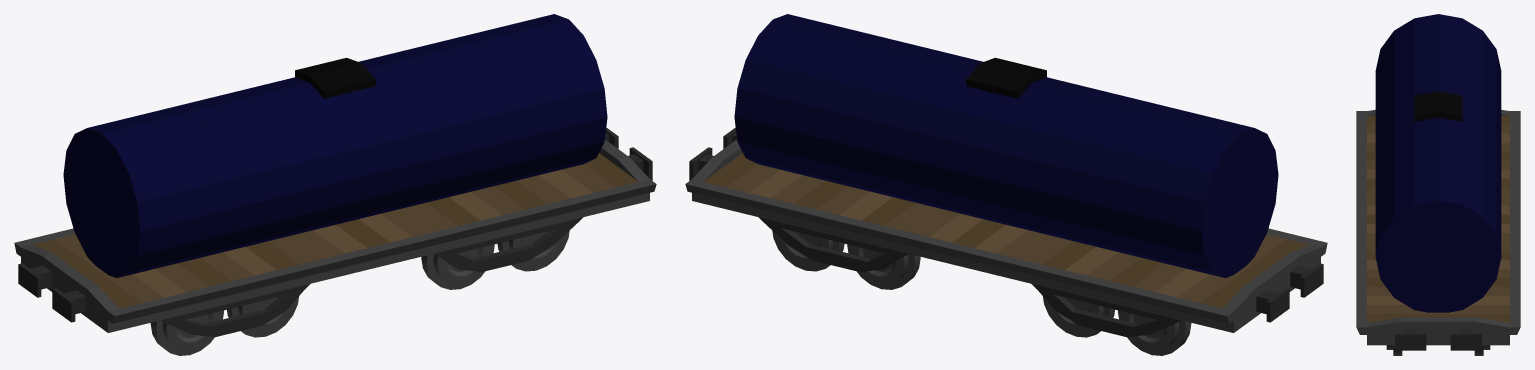
Rendered from tankcar.fbx.
The picture shows the model from 3 angles, left to right: view 1: azimuth 30°, elevation 25°; view 2: azimuth 150°, elevation 25°; view 3: azimuth 270°, elevation 25°; orthographic projection. The views are drawn at different scales.
Visible parts, largest first — view 1: tankcar; view 2: tankcar; view 3: tankcar.
Boxes of the visible parts, x1,y1,x2,y2 form: tankcar: (14,14,656,355); tankcar: (685,14,1327,355); tankcar: (1356,14,1520,355).
Size of the model in its own units: 873 by 320 by 261.
